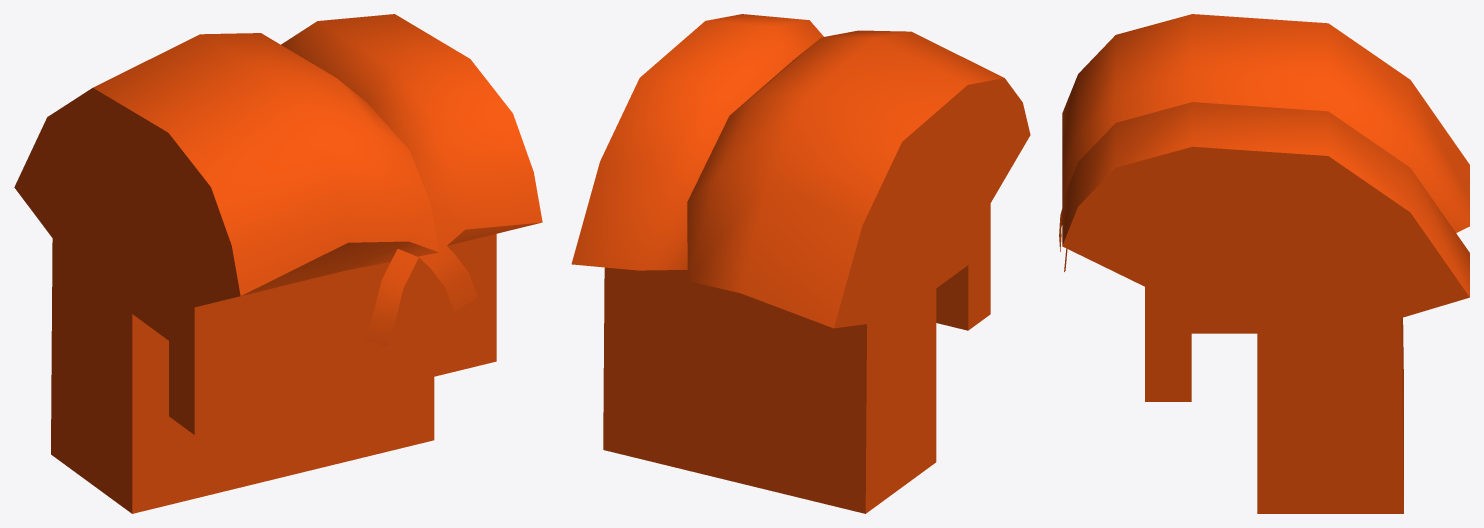
The model's file is Hair Male 02.FBX.
The picture shows the model from 3 angles, left to right: view 1: azimuth 30°, elevation 25°; view 2: azimuth 150°, elevation 25°; view 3: azimuth 270°, elevation 25°; orthographic projection. The views are drawn at different scales.
Visible parts, largest first — view 1: Hair Male 02; view 2: Hair Male 02; view 3: Hair Male 02.
Boxes of the visible parts, x1,y1,x2,y2 form: Hair Male 02: (14, 14, 542, 513); Hair Male 02: (571, 14, 1030, 513); Hair Male 02: (1059, 14, 1469, 513).
Size of the model in its own units: 52.09 by 71.69 by 68.13.
